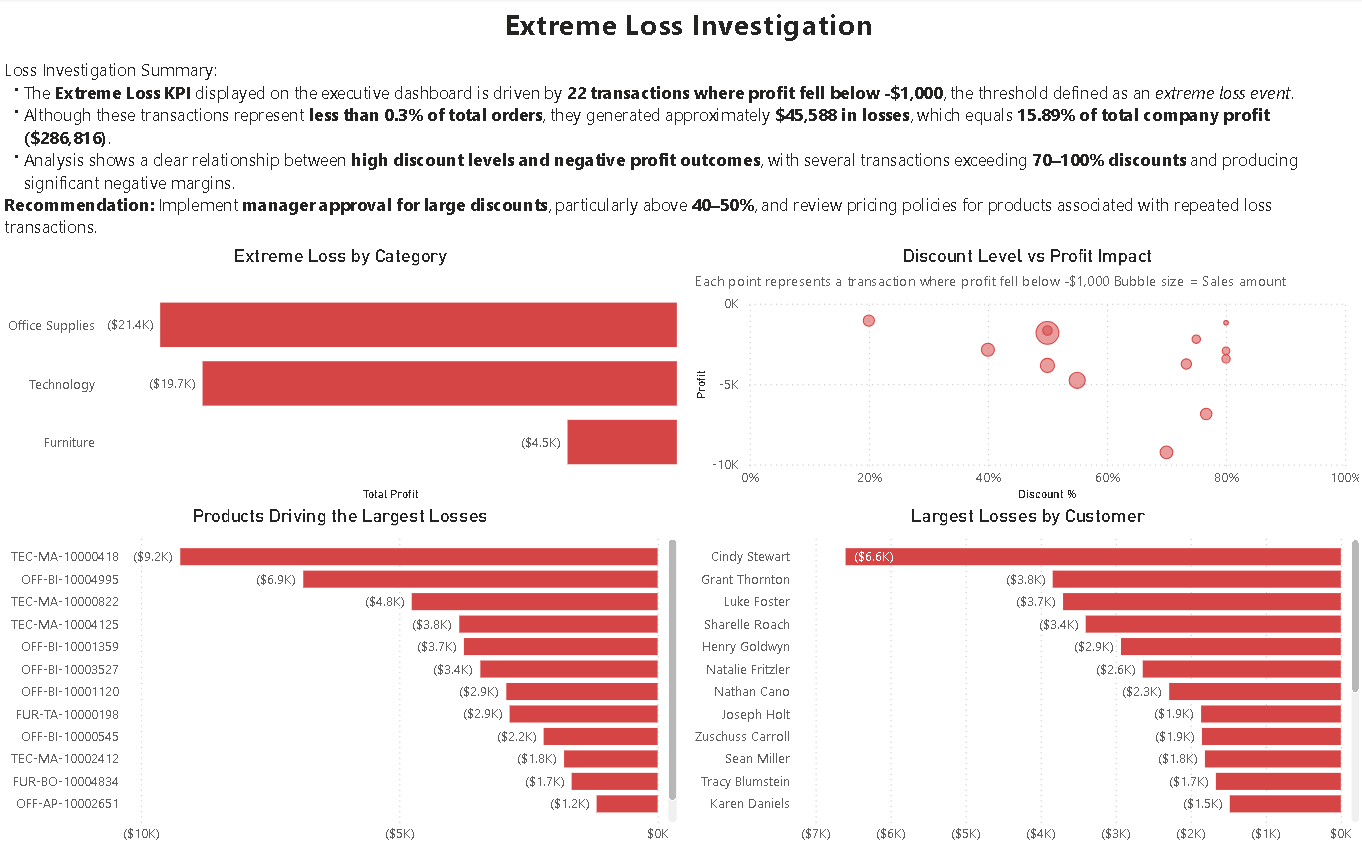

What the dashboard file says about the page in this screenshot:
{"tool":"powerbi","page":{"name":"Extreme Loss Investigation","canvas":[1280,800],"ordinal":3},"visuals":[{"type":"textbox","box":[293.6,0,706.4,50.9],"z":0},{"type":"clusteredBarChart","title":"Products Driving the Largest Losses","fields":{"Category":["dim_product.product_id"],"Y":["_Measures.Total Profit"]},"box":[0,474.8,640,325.2],"z":1000},{"type":"clusteredBarChart","title":"Extreme Loss by Category","fields":{"Category":["dim_product.category"],"Y":["_Measures.Total Profit"]},"box":[0,231.1,640,243.7],"z":2000},{"type":"clusteredBarChart","title":"Largest Losses by Customer","fields":{"Category":["dim_customer.customer_name"],"Y":["Sum(fact_sales.profit)"]},"box":[647.3,474.8,632.7,325.2],"z":3000},{"type":"scatterChart","title":"Discount Level vs Profit Impact","fields":{"X":["Avg(fact_sales.discount)"],"Y":["Sum(vw_extreme_loss_transactions.profit)"],"Category":["dim_product.product_id"],"Size":["Sum(vw_extreme_loss_transactions.sales)"]},"box":[647.3,231.1,632.7,243.7],"z":4000},{"type":"textbox","box":[0,51.2,1280,179.9],"z":4001}]}

Visuals, with their boxes in screenshot pixels (x1, y1, x2, y2), scaled from the page's 1280x800 canvas onto the 1362x851 screenshot:
textbox: bbox=[312, 0, 1064, 54]
"Products Driving the Largest Losses" clusteredBarChart: bbox=[0, 505, 681, 850]
"Extreme Loss by Category" clusteredBarChart: bbox=[0, 246, 681, 505]
"Largest Losses by Customer" clusteredBarChart: bbox=[689, 505, 1361, 850]
"Discount Level vs Profit Impact" scatterChart: bbox=[689, 246, 1361, 505]
textbox: bbox=[0, 54, 1361, 246]
